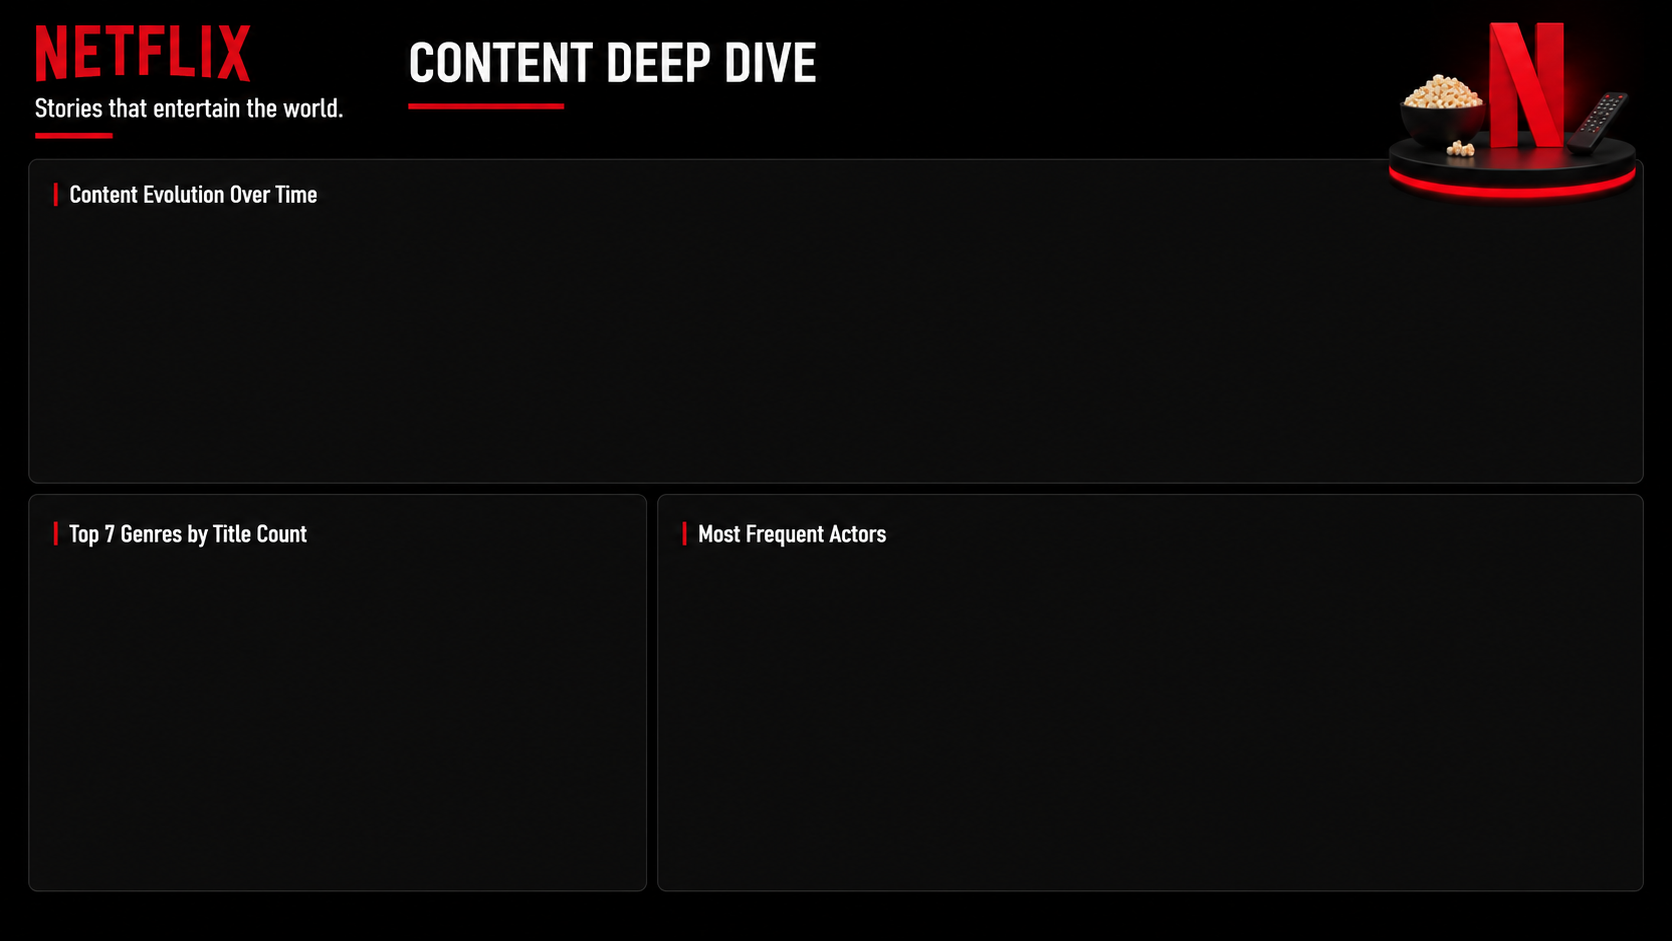

Layout of this report page (visuals, bound fields, positions):
{"tool":"powerbi","page":{"name":"Content Deep Dive","canvas":[1280,720],"ordinal":2},"visuals":[{"type":"stackedAreaChart","title":"Content Evolution Over Time","fields":{"Category":["movies_tv.release_year"],"Series":["movies_tv.type"],"Y":["Sum(movies_tv.Titles)"]},"box":[22.5,126.2,1226.2,233.8],"z":0},{"type":"donutChart","title":"Top 7 Genres by Title Count","fields":{"Category":["genre_summary.Genre"],"Y":["Sum(genre_summary.Titles)"]},"box":[22.5,393.8,467.5,280],"z":1},{"type":"clusteredColumnChart","title":"Most Frequent Actors","fields":{"Category":["top_cast_summary.Cast"],"Y":["Sum(top_cast_summary.Appearances)"]},"box":[502.5,382.5,746.2,291.2],"z":2}]}

Visuals, with their boxes in screenshot pixels (x1, y1, x2, y2), scaled from the page's 1280x720 canvas onto the 1672x941 screenshot:
"Content Evolution Over Time" stackedAreaChart: 29:165:1631:470
"Top 7 Genres by Title Count" donutChart: 29:515:640:881
"Most Frequent Actors" clusteredColumnChart: 656:500:1631:880
